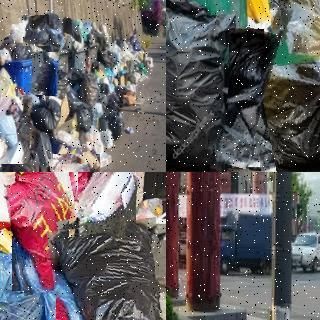Garbage: (166, 3, 235, 172), (51, 220, 166, 320), (243, 29, 320, 172), (4, 172, 89, 293), (220, 28, 273, 168), (73, 172, 140, 235), (0, 230, 44, 320), (268, 0, 320, 63), (30, 51, 59, 96), (28, 94, 61, 129), (50, 152, 102, 172), (23, 15, 49, 46), (106, 109, 124, 137)
